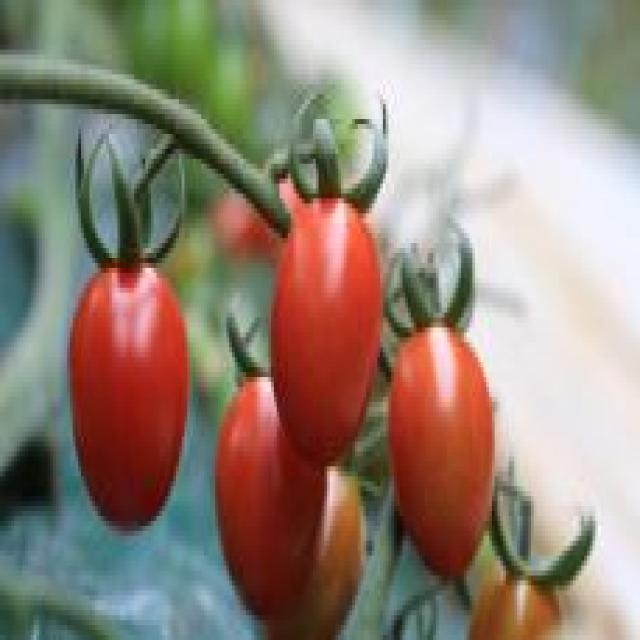level 4: (293, 472, 372, 633), (446, 560, 572, 638)
level 5: (367, 298, 499, 586)
level 6: (60, 243, 206, 553), (262, 179, 394, 483), (214, 363, 332, 607)
